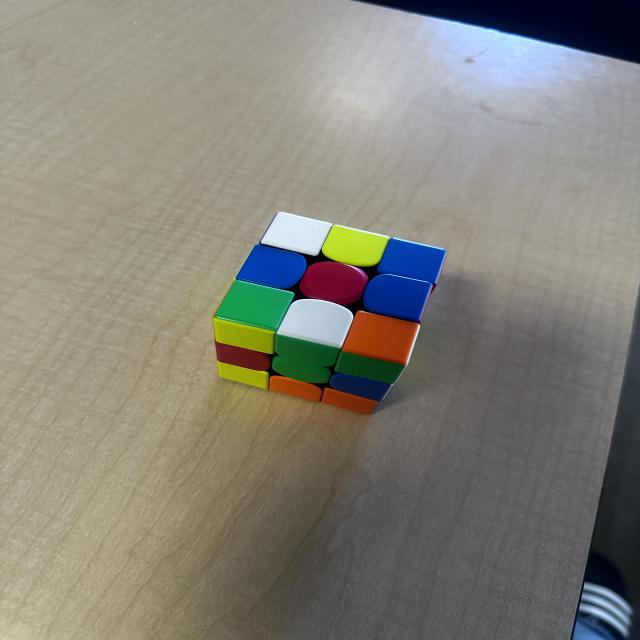sticker: (213, 280, 296, 352), (276, 298, 356, 364), (339, 310, 421, 374), (360, 273, 434, 327), (259, 209, 334, 258), (235, 244, 308, 292), (376, 238, 448, 286), (297, 260, 370, 307), (320, 224, 390, 268), (212, 314, 280, 357), (334, 350, 409, 386), (327, 372, 393, 405), (320, 385, 380, 416), (214, 342, 272, 373), (272, 356, 333, 385), (215, 360, 271, 390), (268, 375, 324, 404)
